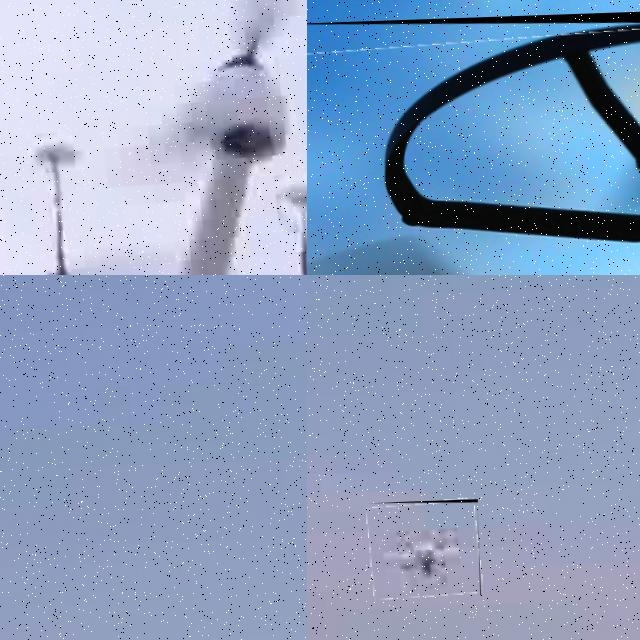0: (0, 0, 307, 275), (367, 498, 481, 598)
drone: (307, 2, 640, 275)
